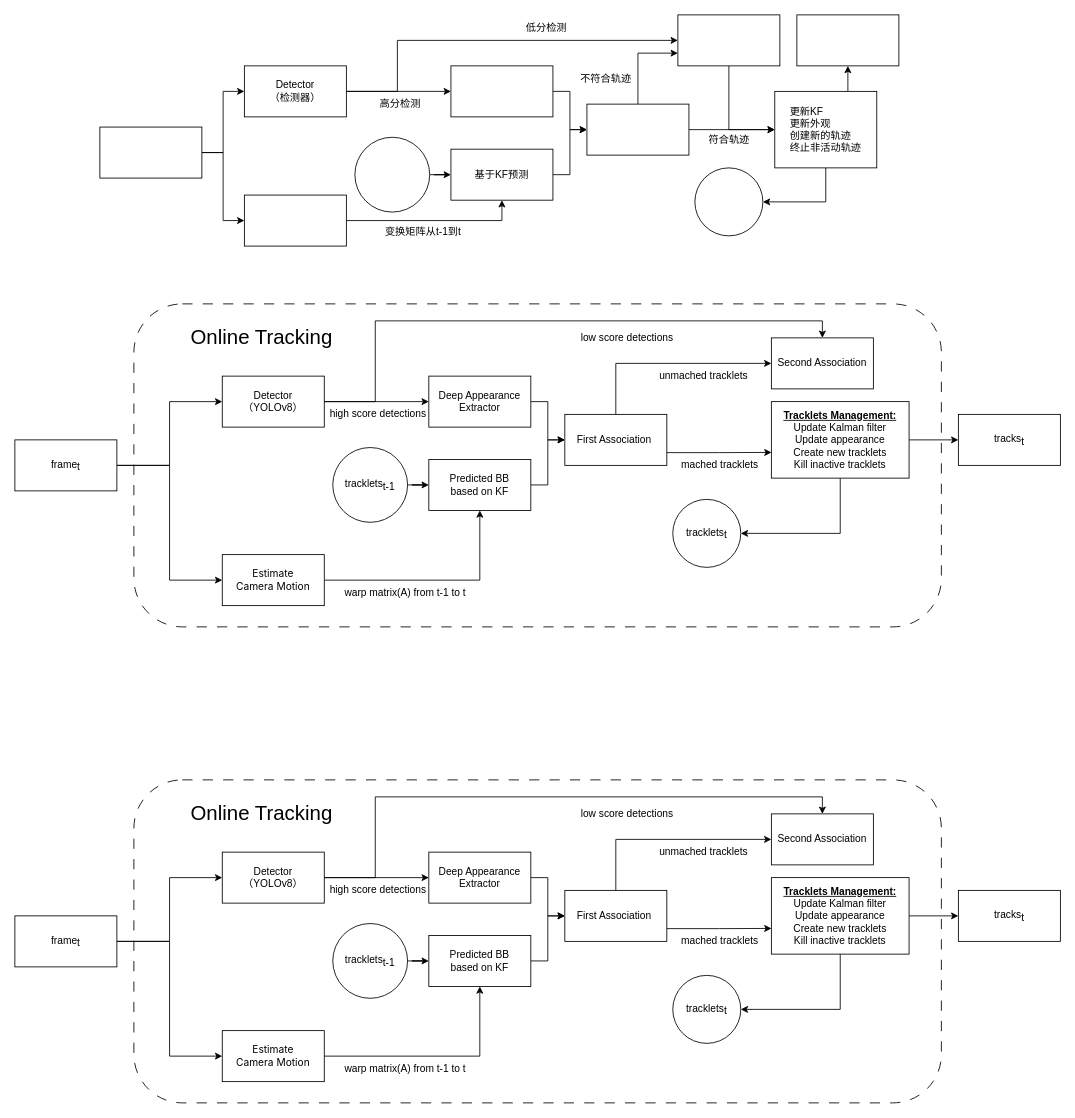
Image size: 1075x1118. Some labels were removed from this diagram. The shapes that lost their labels are listed below. From the top down, each one's centre as x and y in pixels, then its label:
At pixel 728 40: "第二次关联 （基于IoU）".
At pixel 847 40: "tracks t (t时刻跟踪目标)".
At pixel 501 91: "深层外观提取".
At pixel 637 129: "第一次关联 （基于IoU或ReID）".
At pixel 150 152: "frame t (t时刻帧)".
At pixel 392 174: "tracklets t-1 （t-1时刻轨迹）".
At pixel 295 220: "相机运动补偿".
At pixel 728 201: "tracklets t （t时刻轨迹）".
